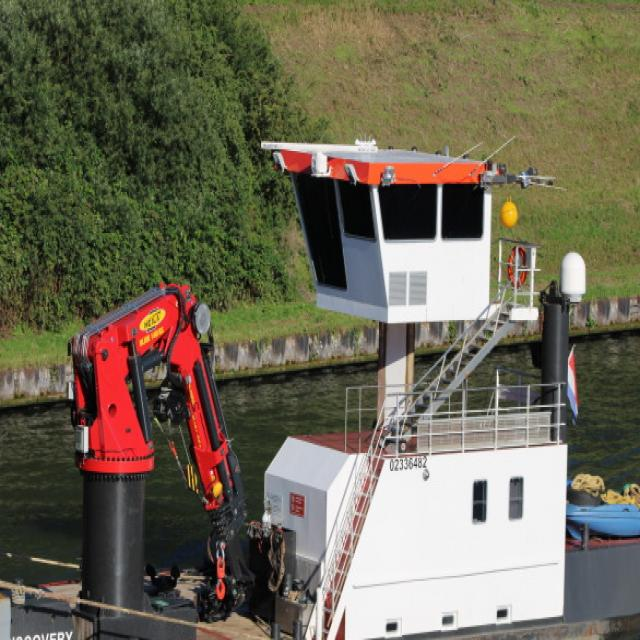tugboat: (1, 124, 640, 640)
